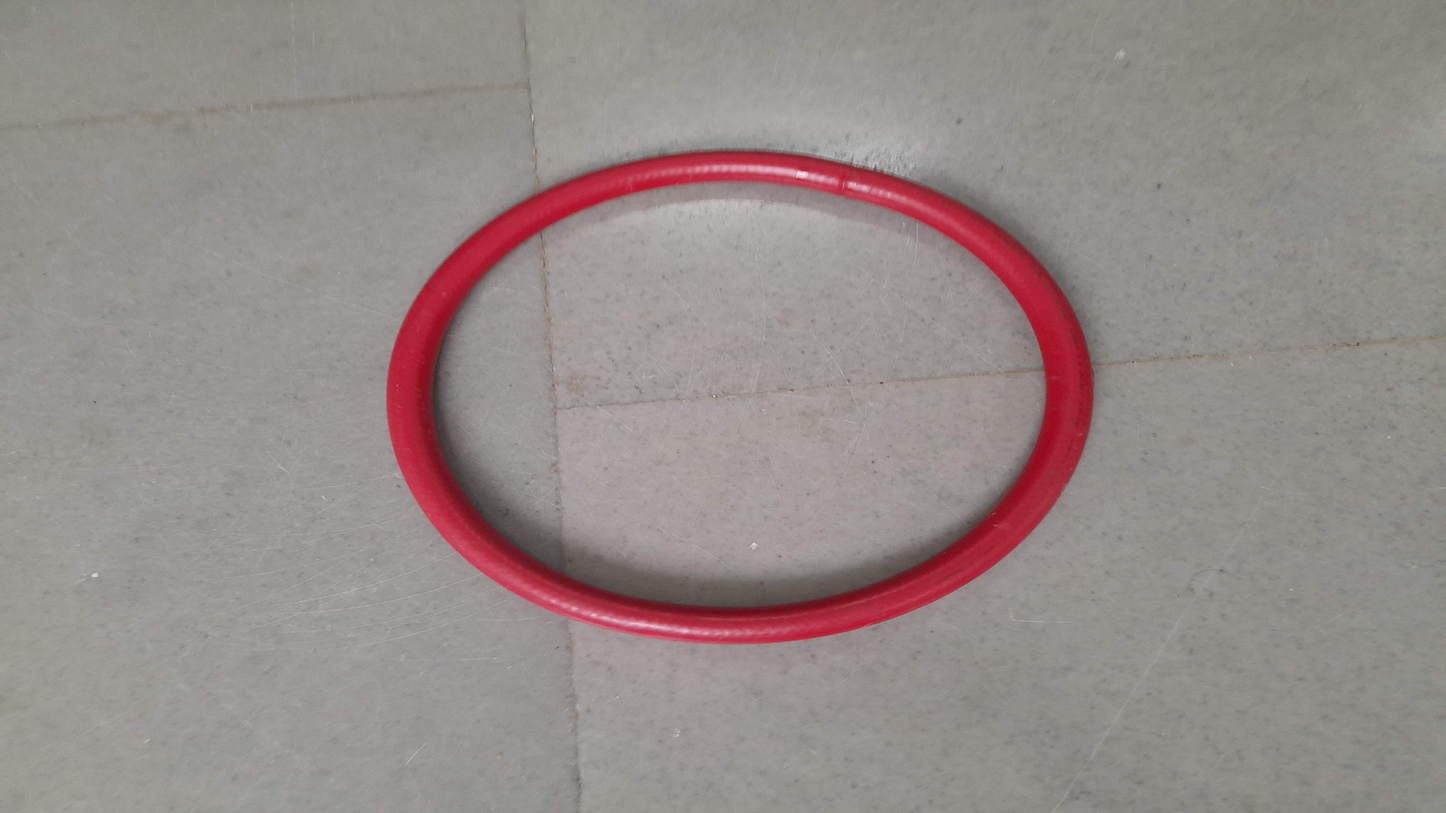Red ring: (387, 149, 1095, 644)
